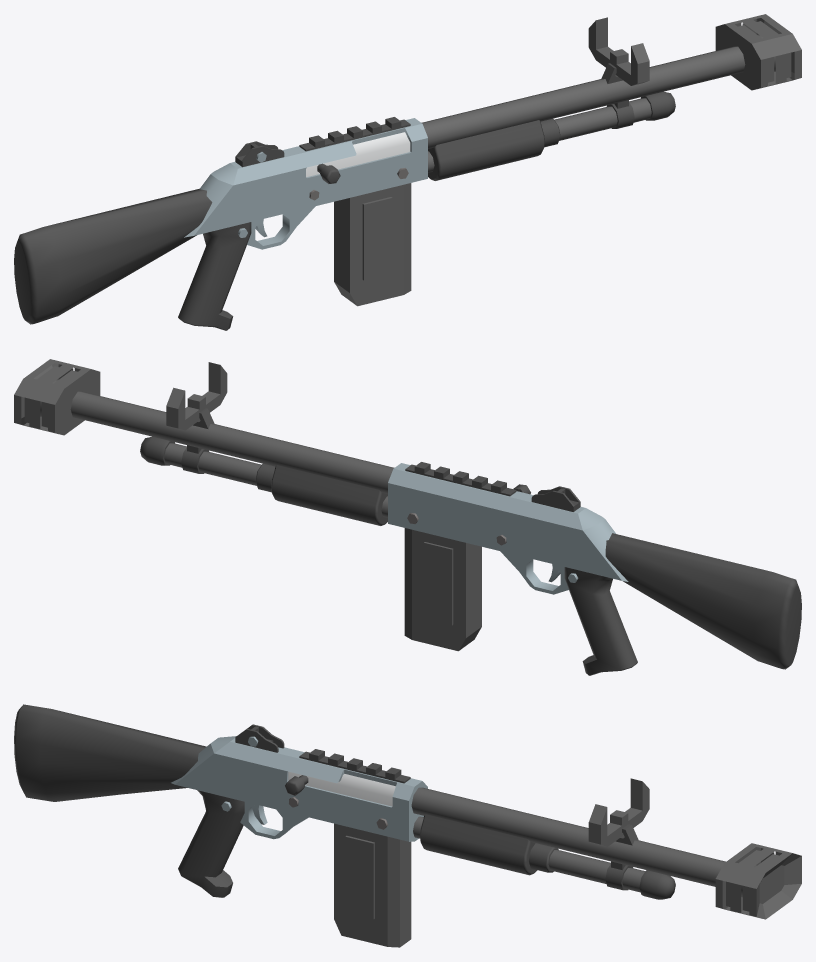
Rendered from rateau.glb.
3 renders of one model, top to bottom at view 1: azimuth 30°, elevation 25°; view 2: azimuth 150°, elevation 25°; view 3: azimuth 330°, elevation 25°, orthographic.
Visible parts, largest first — view 1: shotgun_001, Cube.001, shotgun_001.002, shotgun_handguard_001; view 2: shotgun_001, Cube.001, shotgun_001.002, shotgun_handguard_001; view 3: shotgun_001, Cube.001, shotgun_001.002, shotgun_handguard_001.
Part boxes in pixels (left/top/right/bottom): shotgun_001: left=14, top=63, right=675, bottom=330; Cube.001: left=334, top=14, right=801, bottom=306; shotgun_001.002: left=421, top=46, right=745, bottom=148; shotgun_handguard_001: left=428, top=118, right=560, bottom=180; shotgun_001: left=140, top=408, right=801, bottom=675; Cube.001: left=14, top=359, right=481, bottom=651; shotgun_001.002: left=70, top=391, right=394, bottom=493; shotgun_handguard_001: left=255, top=463, right=387, bottom=525; shotgun_001: left=14, top=704, right=675, bottom=899; Cube.001: left=334, top=778, right=801, bottom=947; shotgun_001.002: left=411, top=787, right=725, bottom=886; shotgun_handguard_001: left=420, top=814, right=558, bottom=875.
Bounding box in the file's own units: 1.77 × 0.4518 × 0.1974.
Materials: 2 (1 with a texture image).
